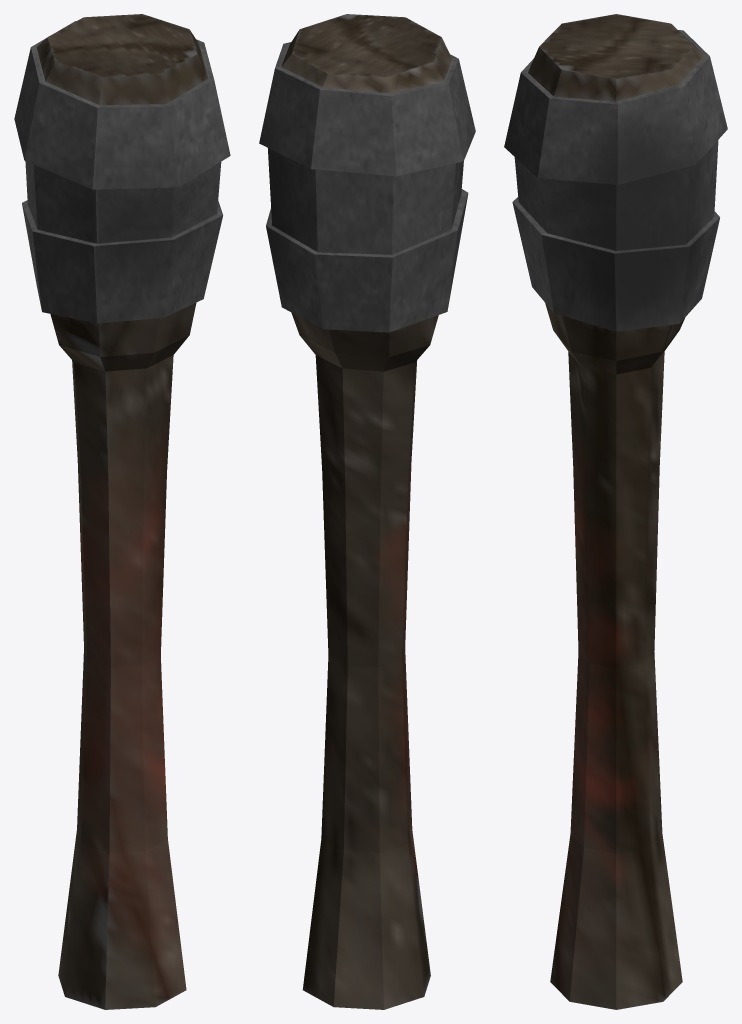
The model's file is torche.fbx.
3 views of the same model, side by side, from view 1: azimuth 30°, elevation 25°; view 2: azimuth 150°, elevation 25°; view 3: azimuth 270°, elevation 25° (orthographic).
Parts seen in each view (by area): view 1: Petite Torche; view 2: Petite Torche; view 3: Petite Torche.
Boxes of the visible parts, bbox=[...] form: Petite Torche: bbox=[14, 14, 230, 1009]; Petite Torche: bbox=[259, 14, 475, 1009]; Petite Torche: bbox=[504, 14, 727, 1009].
Size of the model in its own units: 9.84 by 45.46 by 9.86.
